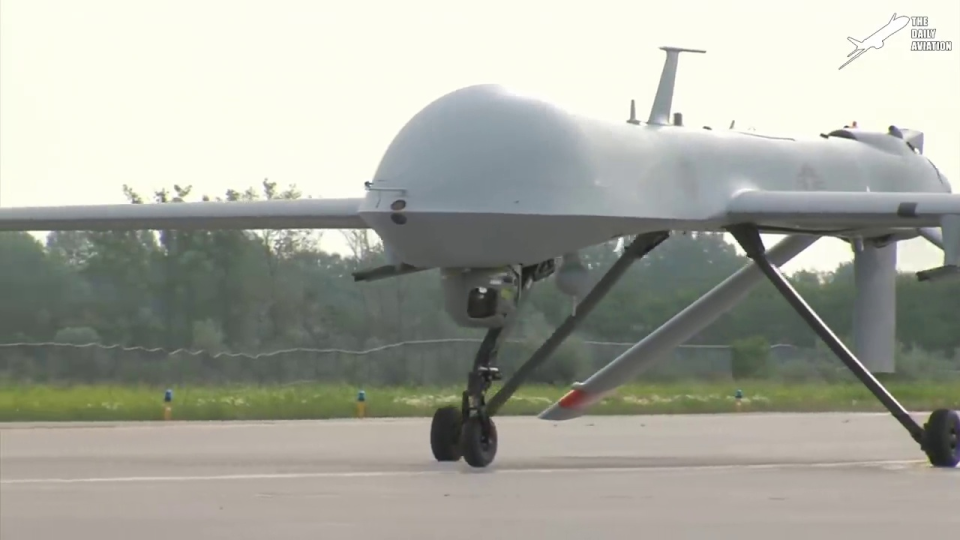military drone: (0, 46, 960, 467)
